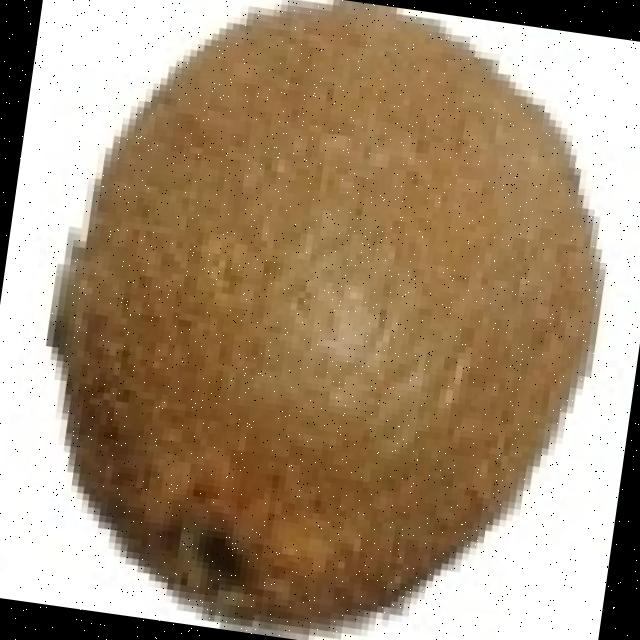kiwi: (60, 6, 604, 624)
